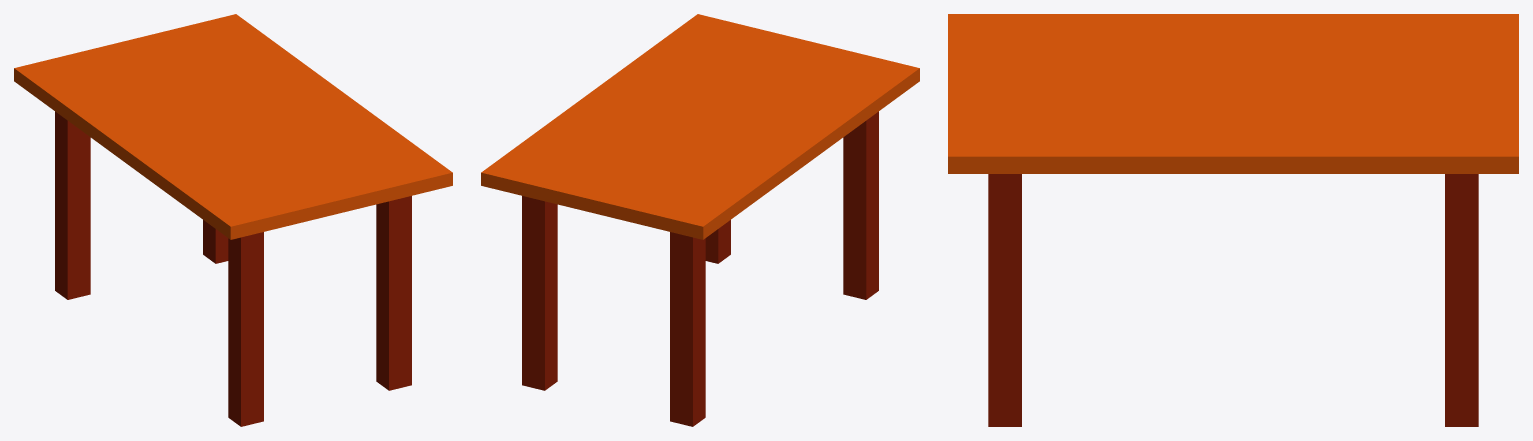
The model's file is Table.fbx.
3 renders of one model, left to right at view 1: azimuth 30°, elevation 25°; view 2: azimuth 150°, elevation 25°; view 3: azimuth 270°, elevation 25°, orthographic. The views are drawn at different scales.
Parts seen in each view (by area): view 1: Cube; view 2: Cube; view 3: Cube.
Boxes of the visible parts, x1,y1,x2,y2 form: Cube: (14, 14, 452, 426); Cube: (481, 14, 919, 426); Cube: (948, 14, 1518, 426).
Size of the model in its own units: 247 by 231 by 417.
